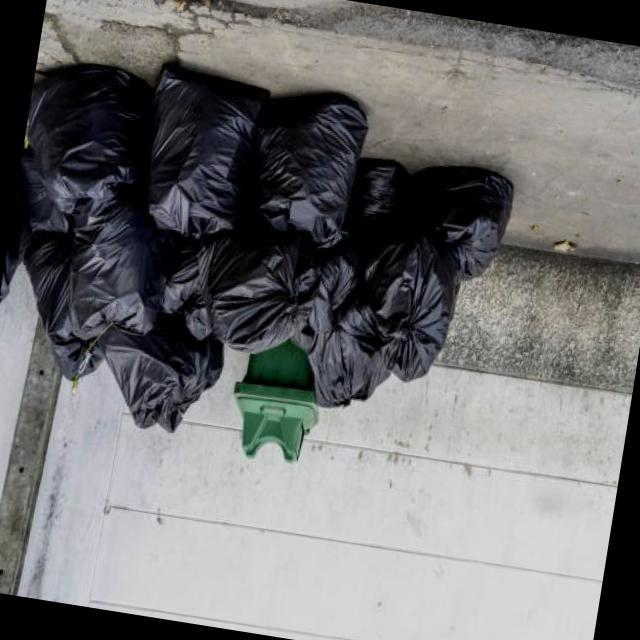high trash: (21, 66, 513, 432)
